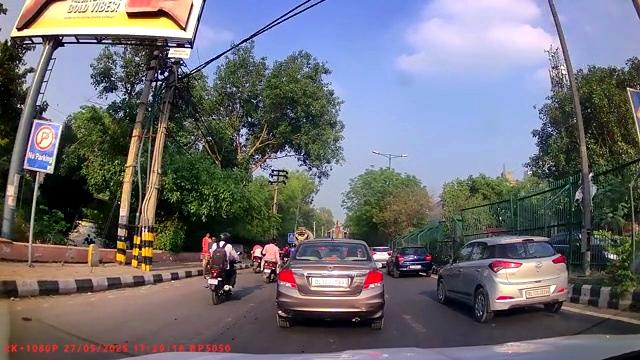motorcycle_with_helmet: (205, 230, 239, 305)
passenger_without_helmet: (264, 237, 278, 283)
